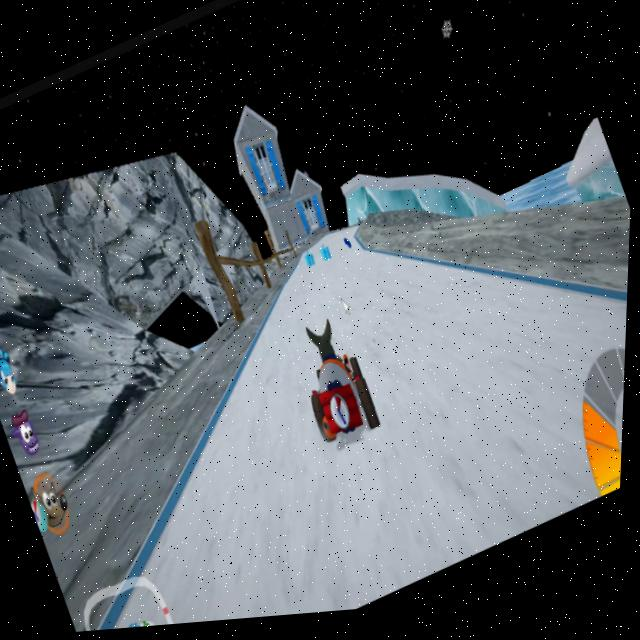bonus: (303, 252, 324, 278), (322, 247, 341, 271)
nitro: (343, 238, 355, 257)
player_kart: (284, 310, 400, 468)
track: (286, 251, 376, 317)
